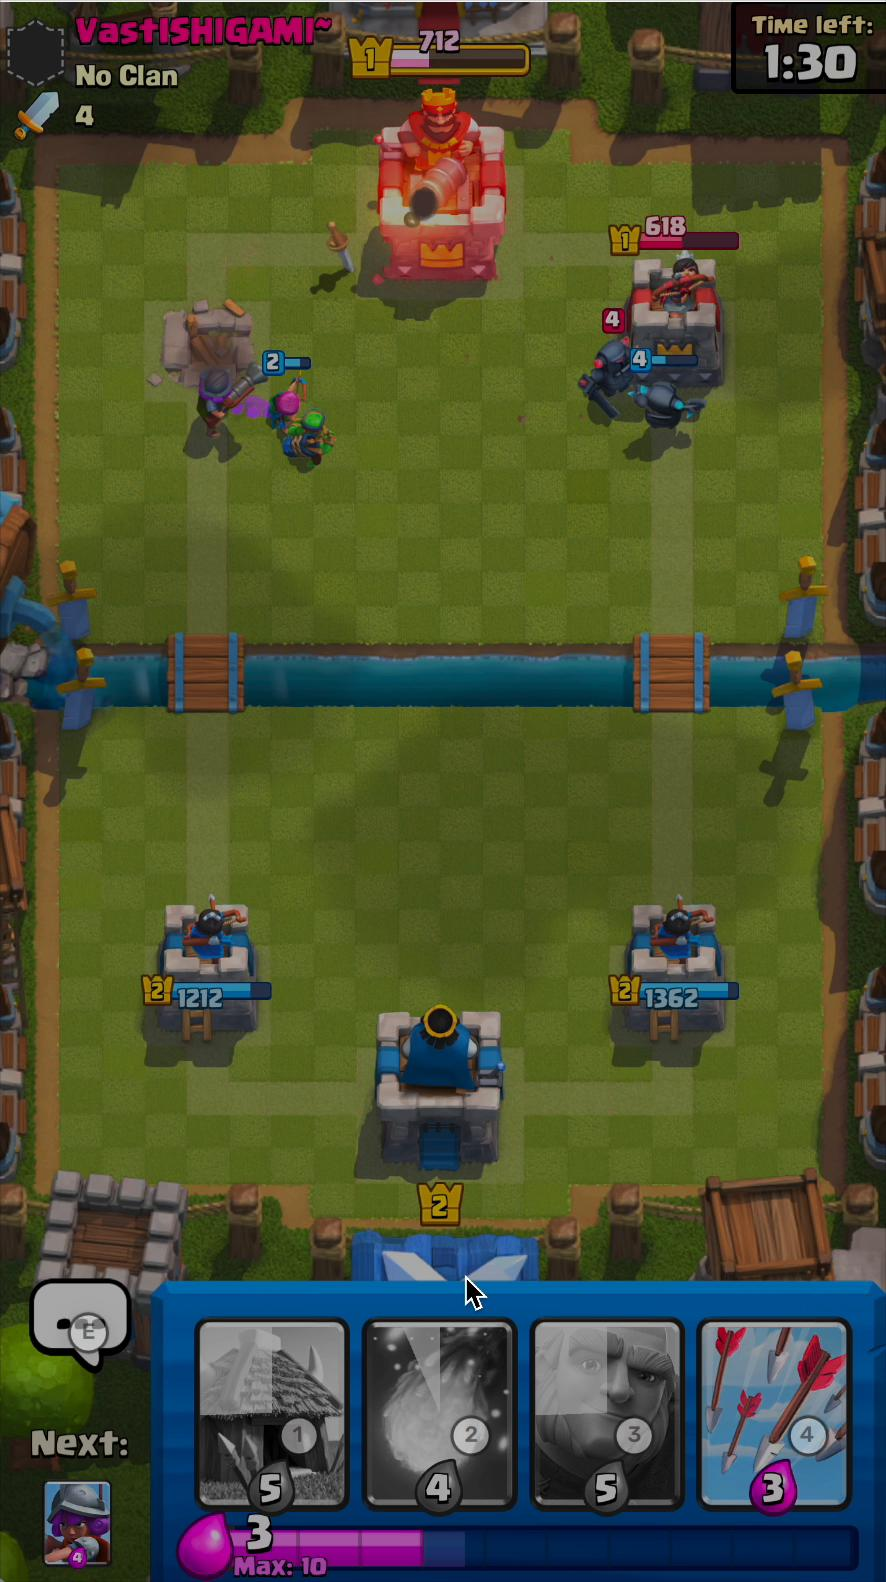archere: (261, 367, 309, 439)
gobelin_lances: (285, 409, 342, 460)
mini_PEKKA: (621, 356, 708, 443), (573, 329, 638, 424)
mousquetaire: (192, 354, 271, 449)
